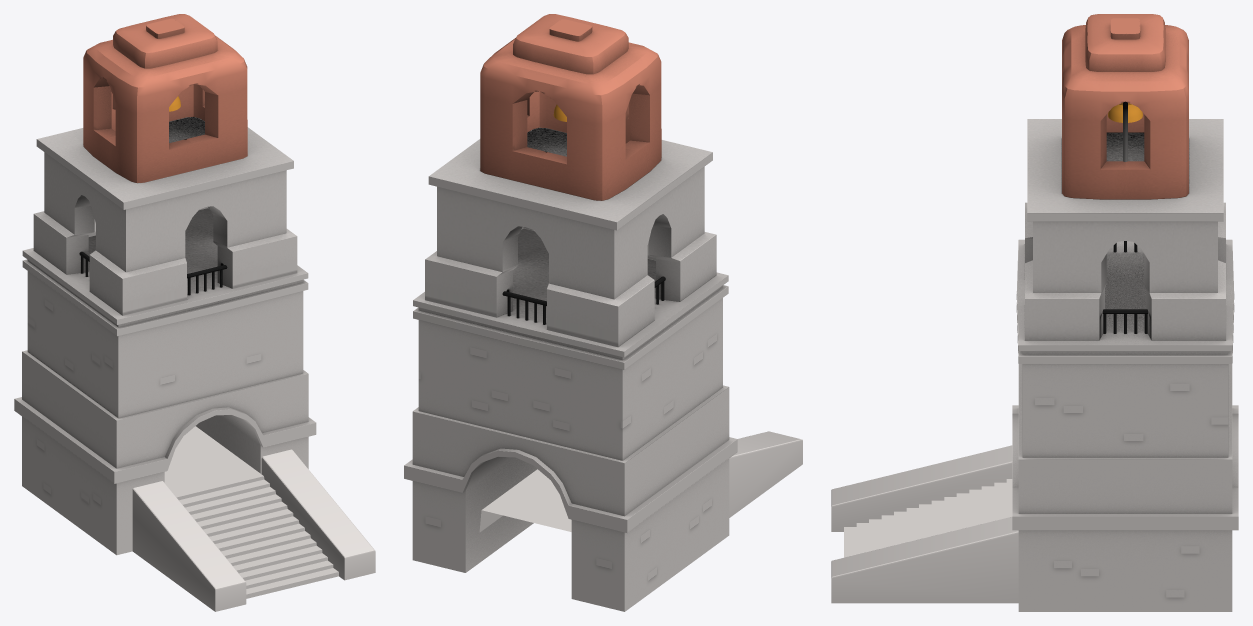
Rendered from Bell tower.fbx.
3 renders of one model, left to right at view 1: azimuth 30°, elevation 25°; view 2: azimuth 150°, elevation 25°; view 3: azimuth 270°, elevation 25°, orthographic. The views are drawn at different scales.
Visible parts, largest first — view 1: Bell tower; view 2: Bell tower; view 3: Bell tower.
Part boxes in pixels (x1,y1,x2,y2): Bell tower: (14, 14, 375, 611); Bell tower: (404, 14, 802, 611); Bell tower: (831, 14, 1238, 611).
Size of the model in its own units: 13.01 by 28.99 by 20.08.
Materials: 1 (1 with a texture image).
